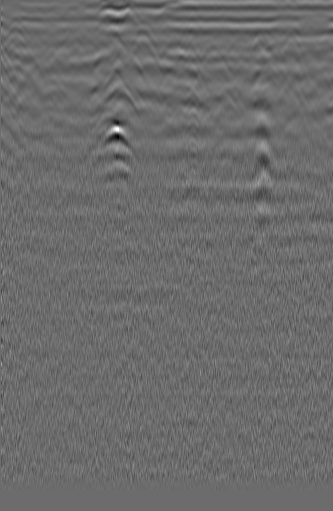가스: (85, 125, 137, 166)
상수: (3, 22, 30, 46)
오수: (277, 32, 303, 58)
우수: (159, 37, 189, 60)
